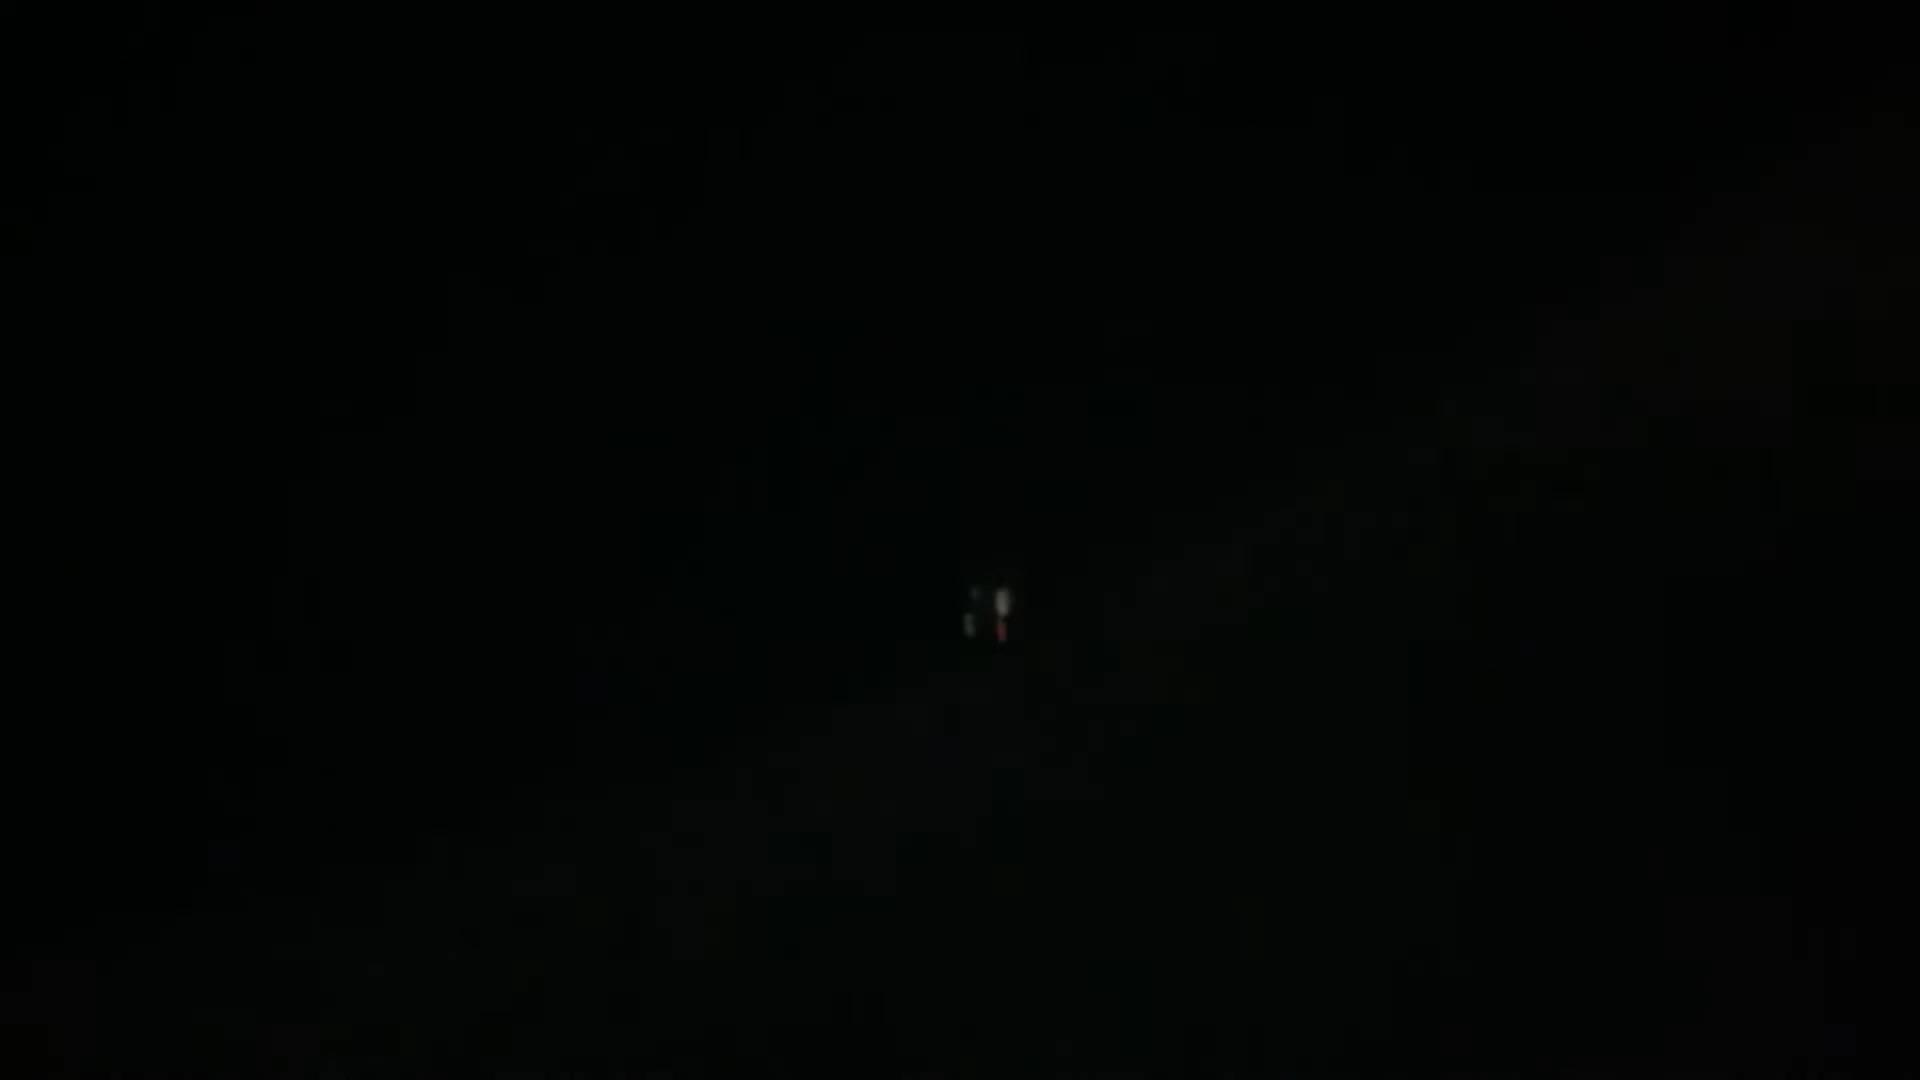Plane: (939, 566, 1046, 657)
